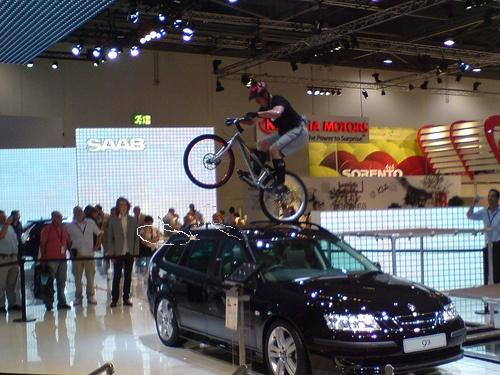tampered: (138, 205, 243, 245)
